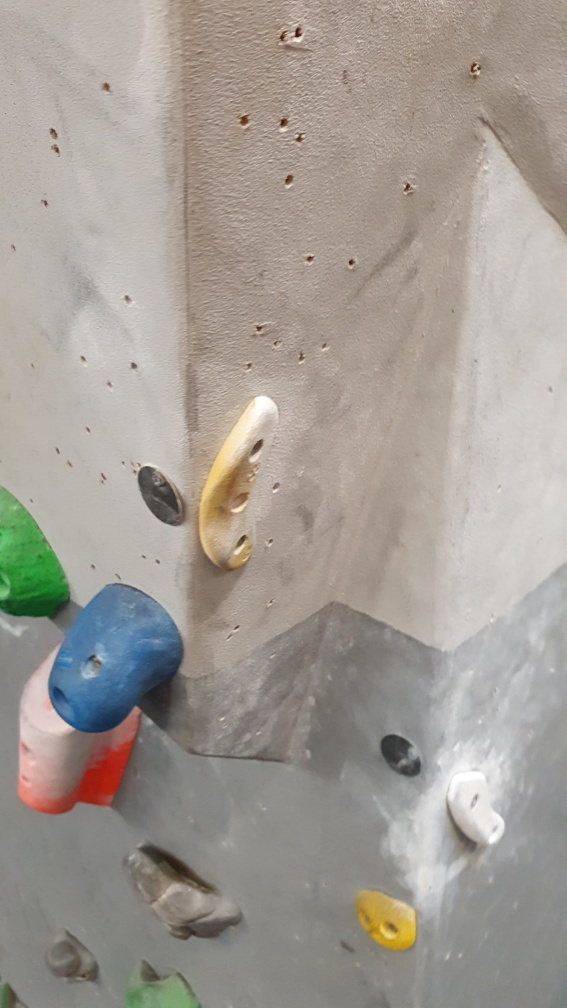Hand Start: (136, 463, 189, 532), (375, 728, 426, 782)
Jug: (122, 838, 251, 943)
Pinch: (17, 631, 146, 825)
